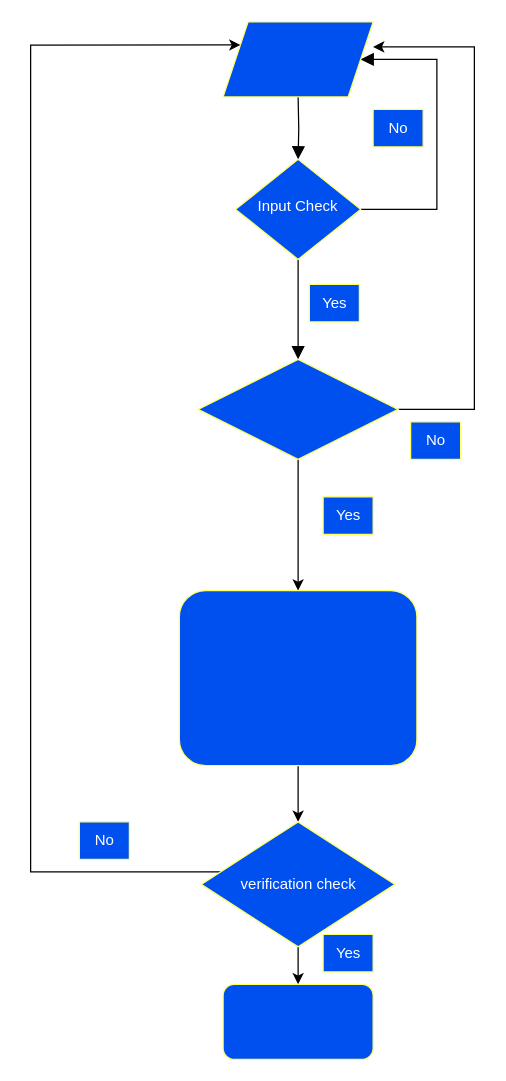
Some shapes in this 506 by 1081 pixel diagram are drawn without their labels. Here are the shapes that lost their labels. From the top down, the centre of each, then its label:
At pixel 297 59: "Input user info".
At pixel 297 408: "Duplicate Check".
At pixel 297 677: "Email to be sent to user with verification link".
At pixel 297 1021: "New User Created".
